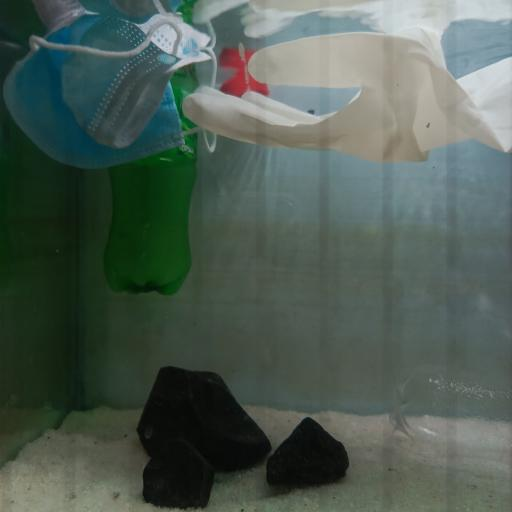bottle_cap: (216, 76, 268, 100)
glove: (182, 34, 512, 166)
mask: (1, 12, 218, 170)
plastic_bottle: (102, 67, 200, 296), (388, 366, 512, 468)
